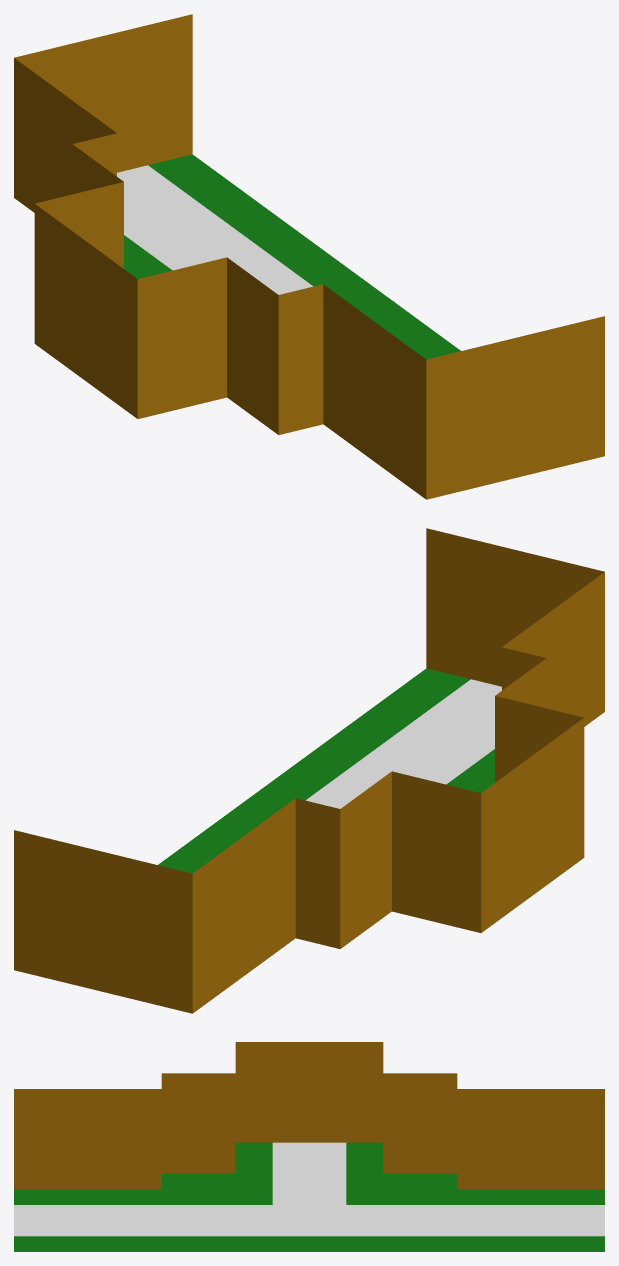
3 views of the same model, one above another, from view 1: azimuth 30°, elevation 25°; view 2: azimuth 150°, elevation 25°; view 3: azimuth 270°, elevation 25° (orthographic). The views are drawn at different scales.
Visible parts, largest first — view 1: World_-col; view 2: World_-col; view 3: World_-col.
Boxes of the visible parts, <box> form: World_-col: <box>14,14,604,499</box>; World_-col: <box>14,528,604,1013</box>; World_-col: <box>14,1042,604,1251</box>.
Bounding box in the file's own units: 7 × 16 × 3.
